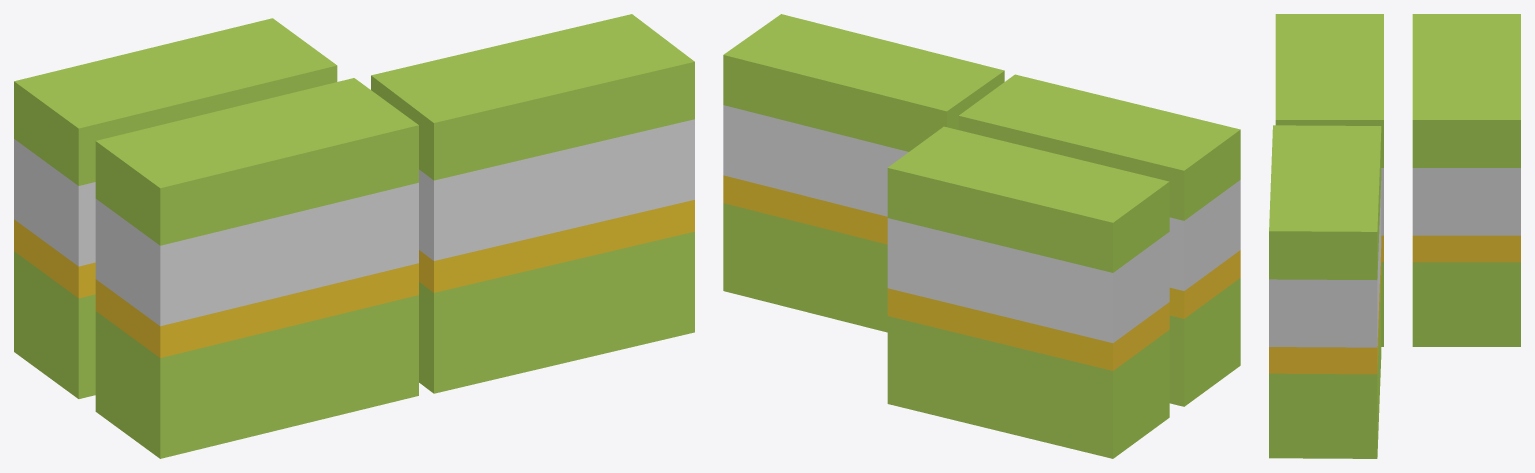
File: ShelfItem3.glb
3 renders of one model, left to right at view 1: azimuth 30°, elevation 25°; view 2: azimuth 150°, elevation 25°; view 3: azimuth 270°, elevation 25°, orthographic. The views are drawn at different scales.
Parts seen in each view (by area): view 1: SI_Prop_ShelfItem_03; view 2: SI_Prop_ShelfItem_03; view 3: SI_Prop_ShelfItem_03.
Part boxes in pixels (x1=…): SI_Prop_ShelfItem_03: x1=14, y1=14, x2=694, y2=458; SI_Prop_ShelfItem_03: x1=723, y1=14, x2=1240, y2=458; SI_Prop_ShelfItem_03: x1=1269, y1=14, x2=1520, y2=458.
Bounding box in the file's own units: 0.0124 × 0.006 × 0.00604.
1 material, 1 textured.
